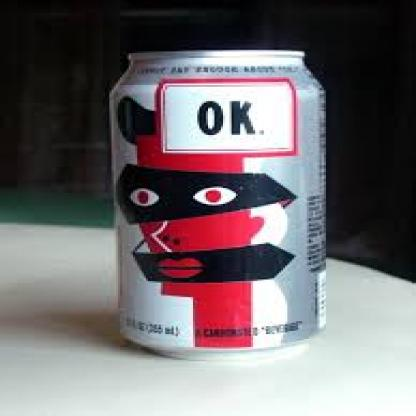Aerosols: (103, 35, 330, 371)
